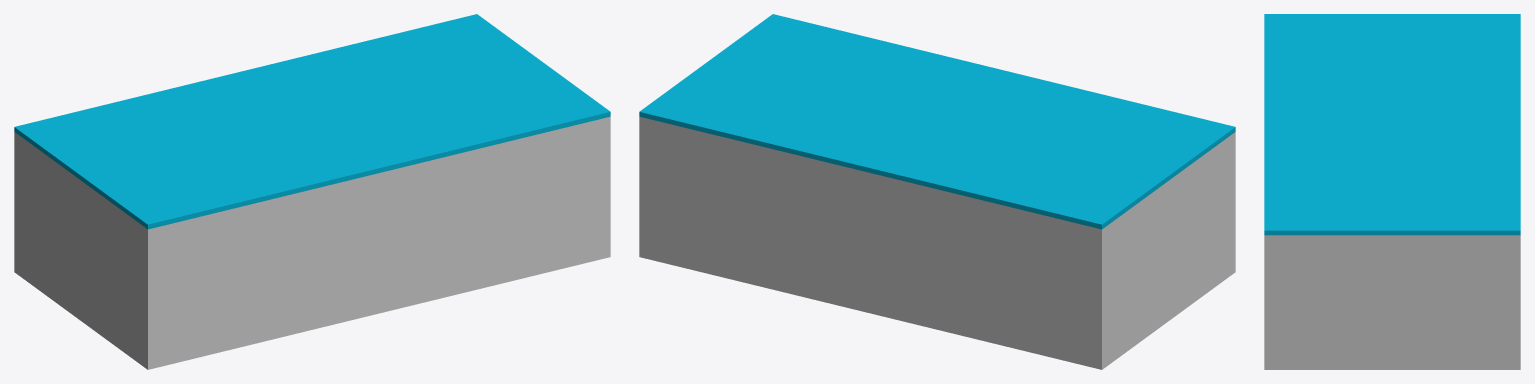
Rendered from synthevery.dae.
The picture shows the model from 3 angles, left to right: view 1: azimuth 30°, elevation 25°; view 2: azimuth 150°, elevation 25°; view 3: azimuth 270°, elevation 25°; orthographic projection. The views are drawn at different scales.
Parts seen in each view (by area): view 1: synthevery; view 2: synthevery; view 3: synthevery.
Boxes of the visible parts, x1=… form: synthevery: x1=14, y1=14, x2=610, y2=369; synthevery: x1=639, y1=14, x2=1235, y2=369; synthevery: x1=1264, y1=14, x2=1520, y2=369.
Size of the model in its own units: 0.05 by 0.025 by 0.015.
